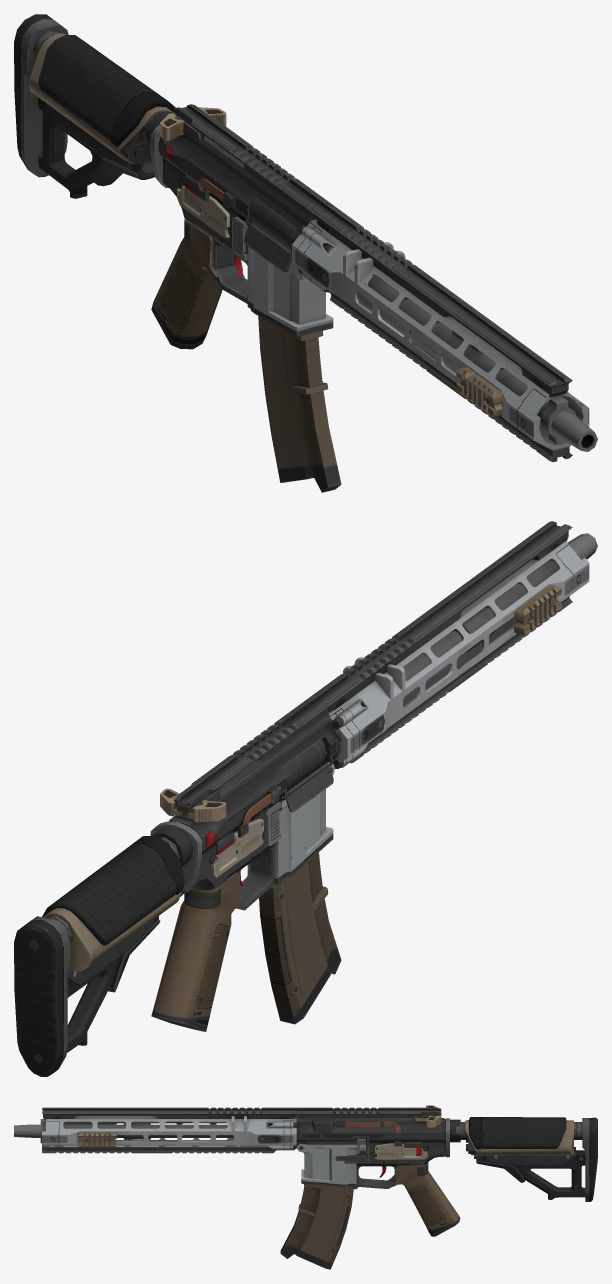
Rendered from raw.glb.
3 views of the same model, one above another, from view 1: azimuth 30°, elevation 25°; view 2: azimuth 150°, elevation 25°; view 3: azimuth 270°, elevation 25° (orthographic). The views are drawn at different scales.
Visible parts, largest first — view 1: m4_ssr_LOD0; view 2: m4_ssr_LOD0; view 3: m4_ssr_LOD0.
Boxes of the visible parts, box(x1,y1,x2,y2) form: m4_ssr_LOD0: box(14, 14, 597, 492); m4_ssr_LOD0: box(14, 521, 597, 1076); m4_ssr_LOD0: box(14, 1105, 597, 1269).
Size of the model in its own units: 0.0514 by 0.2117 by 0.7087.
1 material, 1 textured.
